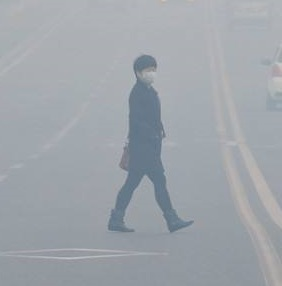person: (106, 51, 196, 235)
